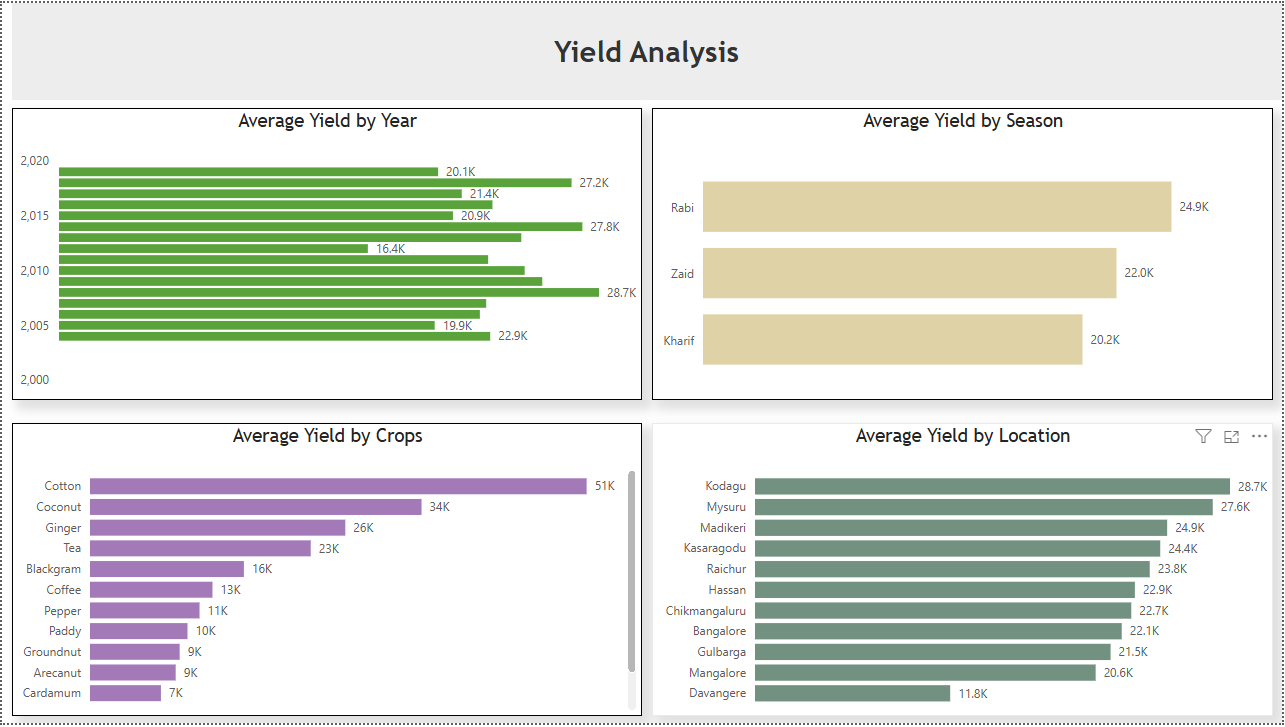

Layout of this report page (visuals, bound fields, positions):
{"tool":"powerbi","page":{"name":"Yield Analysis","canvas":[1280,720],"ordinal":3},"visuals":[{"type":"shape","box":[9.7,0,1270.3,97.3],"z":0},{"type":"barChart","title":"Average Yield by Year","fields":{"Category":["AGRICULTURE.YEAR"],"Y":["Avg(AGRICULTURE.YEILDS)"]},"box":[9.7,105,630.3,291.8],"z":1000},{"type":"barChart","title":"Average Yield by Season","fields":{"Category":["AGRICULTURE.SEASON"],"Y":["Avg(AGRICULTURE.YEILDS)"]},"box":[649.7,105,621.5,291.8],"z":2000},{"type":"barChart","title":"Average Yield by Crops","fields":{"Category":["AGRICULTURE.CROPS"],"Y":["Avg(AGRICULTURE.YEILDS)"]},"box":[9.7,420.2,630.3,292.8],"z":3000},{"type":"barChart","title":"Average Yield by Location","fields":{"Category":["AGRICULTURE.LOCATION"],"Y":["Avg(AGRICULTURE.YEILDS)"]},"box":[649.7,420.2,621.5,292.8],"z":4000}]}

Visuals, with their boxes in screenshot pixels (x1, y1, x2, y2), scaled from the page's 1280x720 canvas onto the 1285x727 screenshot:
shape: [x1=10, y1=0, x2=1284, y2=98]
"Average Yield by Year" barChart: [x1=10, y1=106, x2=642, y2=401]
"Average Yield by Season" barChart: [x1=652, y1=106, x2=1276, y2=401]
"Average Yield by Crops" barChart: [x1=10, y1=424, x2=642, y2=720]
"Average Yield by Location" barChart: [x1=652, y1=424, x2=1276, y2=720]
